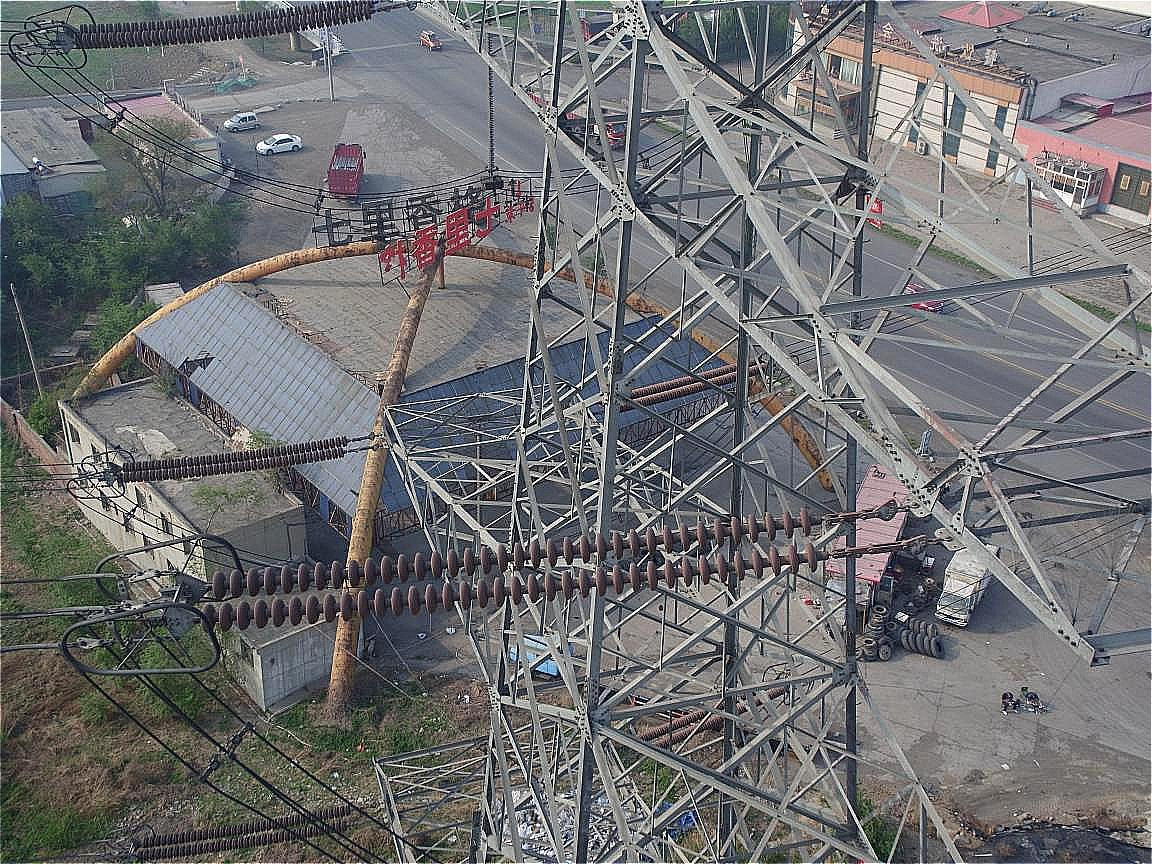insultor1: (184, 505, 850, 628)
insultor2: (122, 794, 365, 863), (105, 434, 350, 493)
